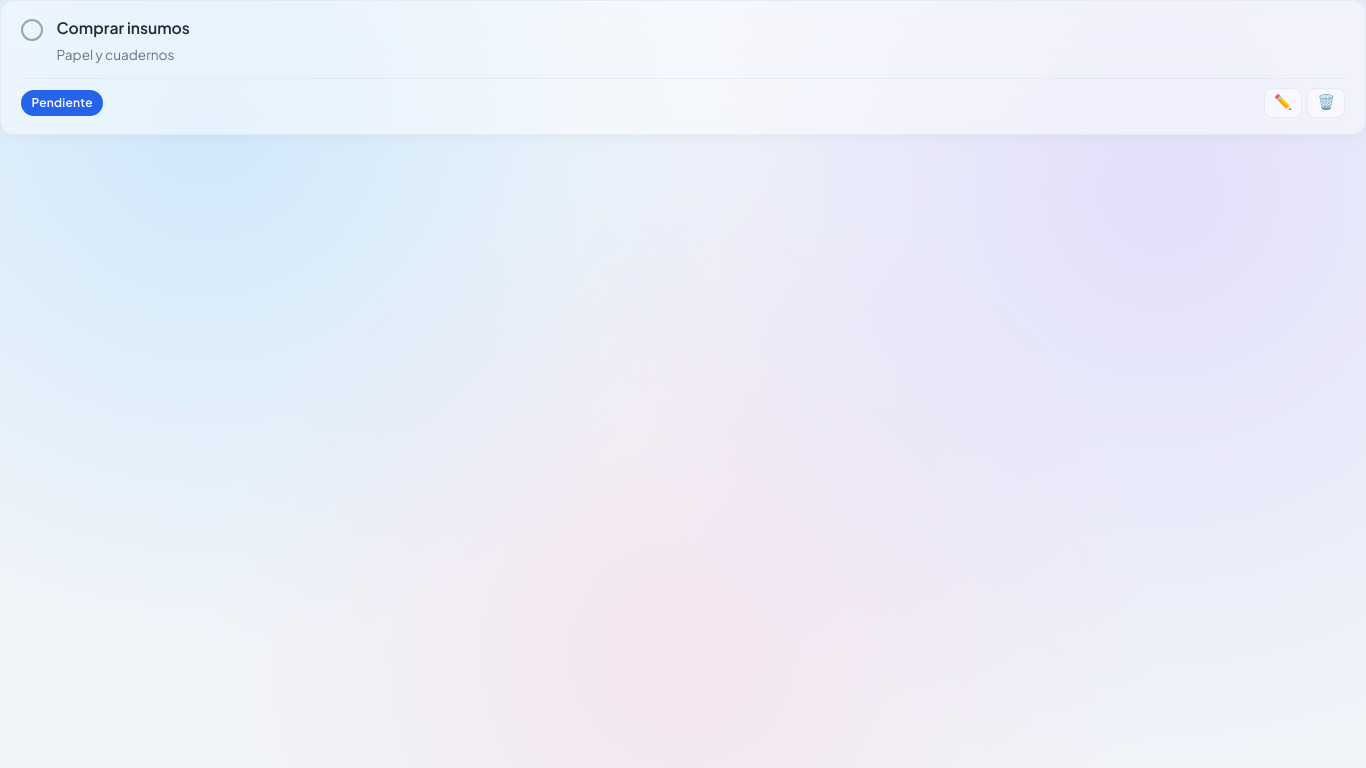
Test case: Componente: TodoItem (Flujo de Edición e Interacción) › debe mostrar mensaje visible de error si falla el toggle de la tarea
The width and height of the screenshot is (1366, 768).
Click the button named "marcar como completada".
click(32, 30)  # box [21,19,43,41]
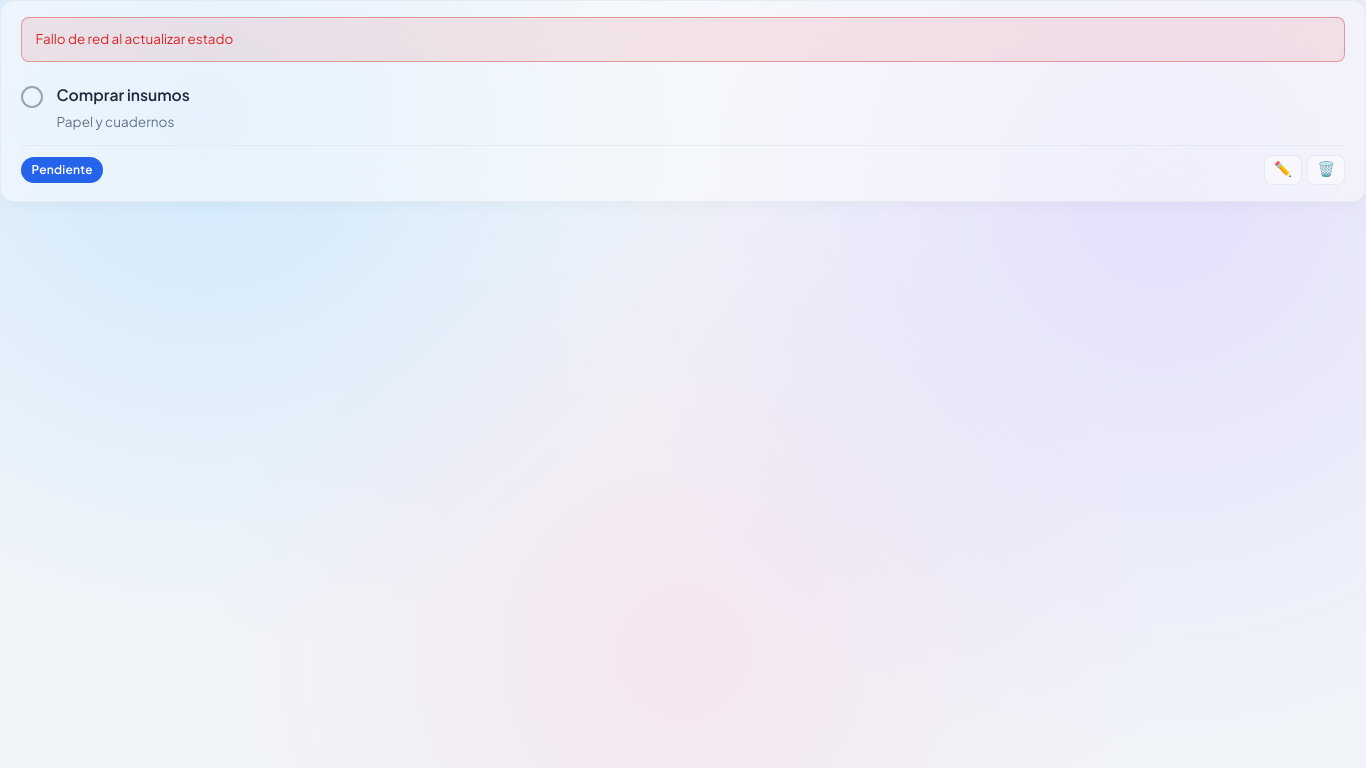
Now the text "Fallo de red al actualizar estado" is shown, box [36,30,233,49]
